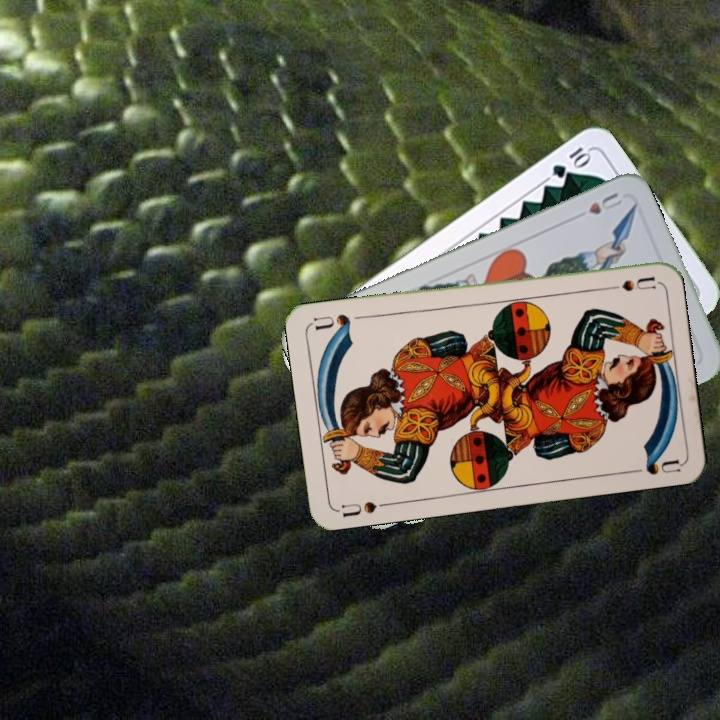G10: (548, 143, 594, 181)
HU: (584, 188, 625, 217)
SU: (334, 497, 393, 520), (598, 272, 657, 294)
